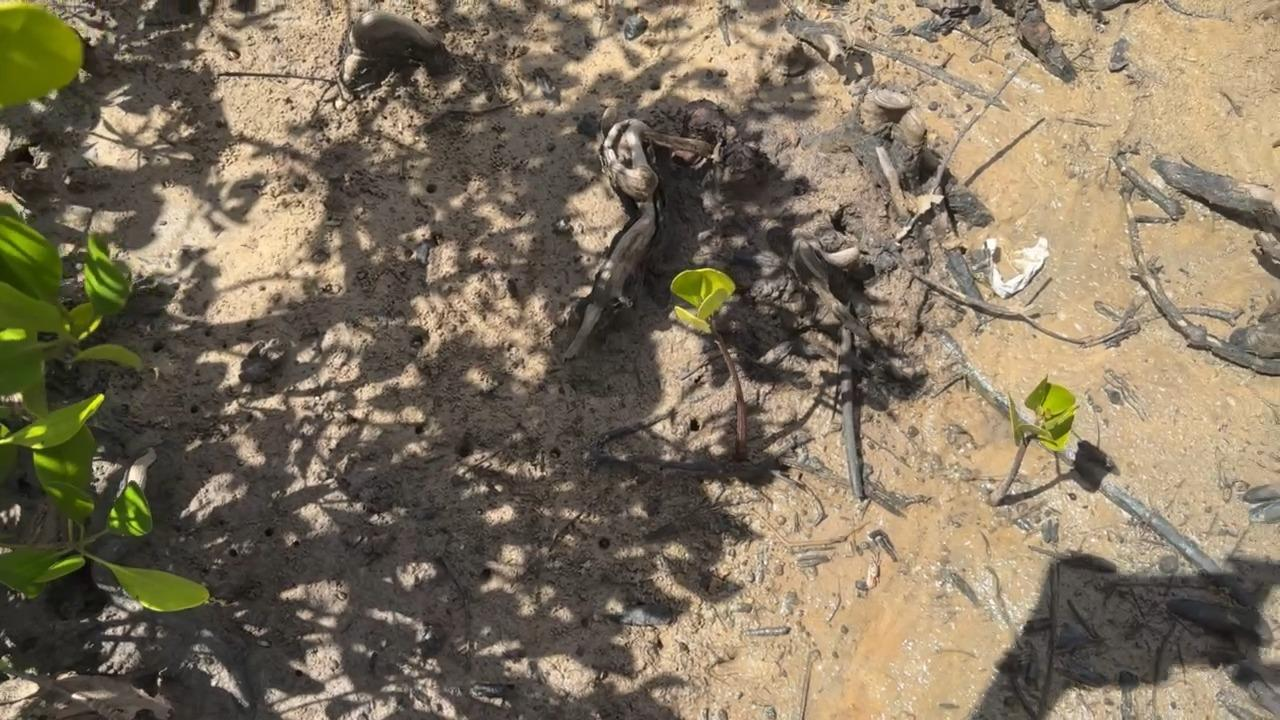Tree: (670, 268, 750, 463), (986, 373, 1081, 507)
